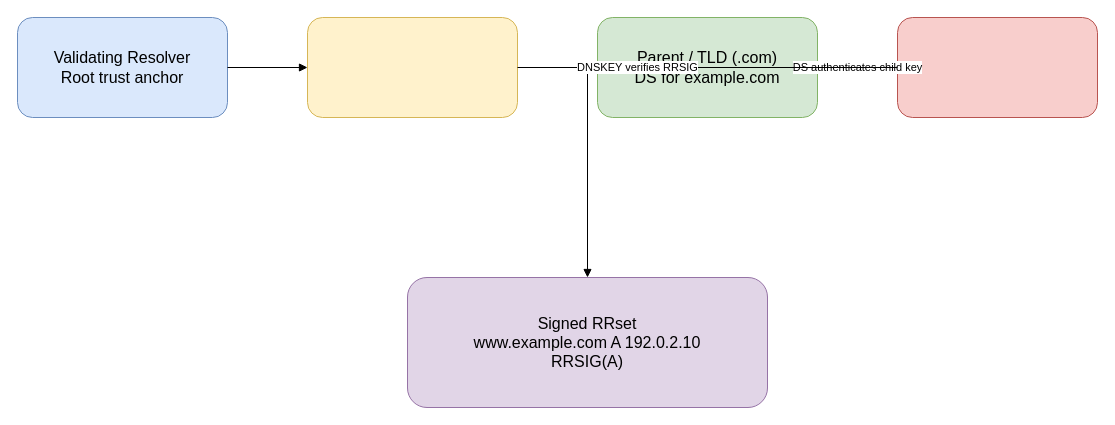
Image size: 1115x425. Some labels were removed from this diagram. Here are the shapes that lost their labels. From the top down, the centre of each, then its label:
At point 412,67: "Root Zone (.) DNSKEY + RRSIG".
At point 997,67: "Child Zone DNSKEY RRset".
